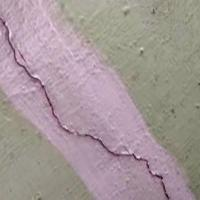crack: (1, 14, 177, 199)
